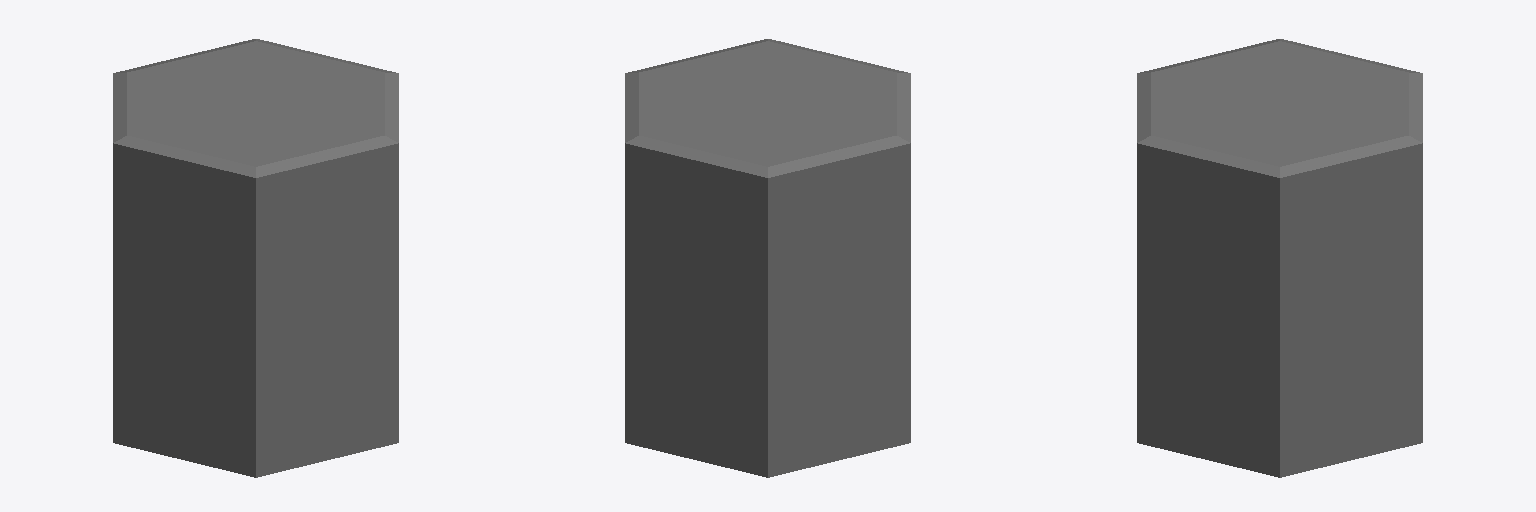
File: HexModel.obj
3 renders of one model, left to right at view 1: azimuth 30°, elevation 25°; view 2: azimuth 150°, elevation 25°; view 3: azimuth 270°, elevation 25°, orthographic.
Visible parts, largest first — view 1: HexModel; view 2: HexModel; view 3: HexModel.
Boxes of the visible parts, box(x1,y1,x2,y2) form: HexModel: box(113, 39, 398, 477); HexModel: box(625, 39, 910, 477); HexModel: box(1137, 39, 1422, 477).
Size of the model in its own units: 1 by 1.01 by 0.866.